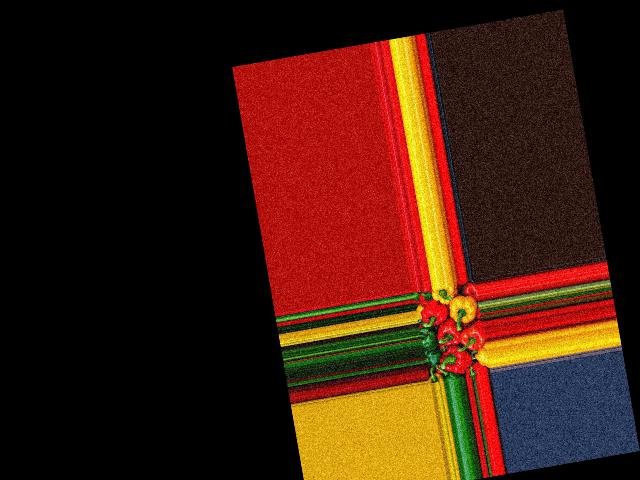bell_pepper: (474, 348, 490, 366)
